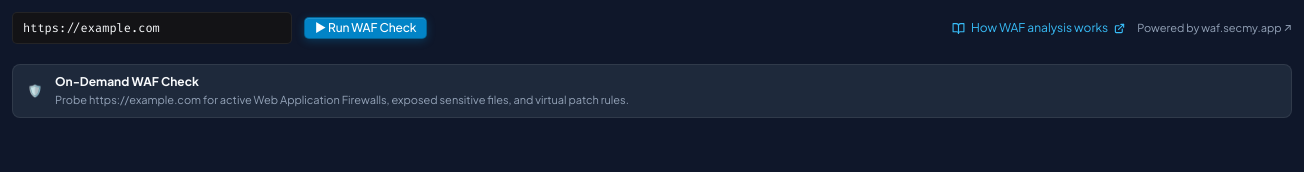
WafCheckPanel Component › renders error card when WAF check request fails
Click the button with test id "run-waf-check-btn" at (366, 28), box x1=304 y1=17 x2=427 y2=39
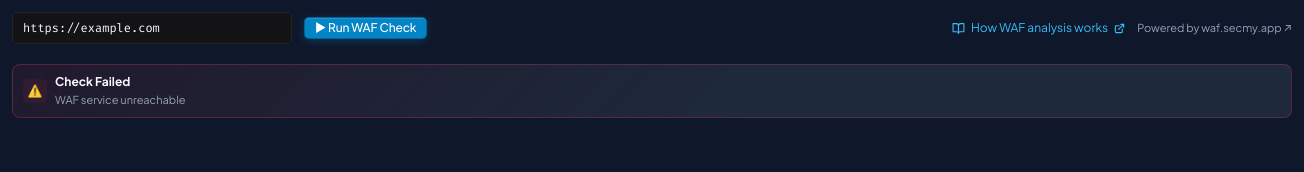
Result: the element with test id "waf-check-error" is shown at x1=12 y1=64 x2=1292 y2=118
Result: the text "Check Failed" is shown at x1=55 y1=74 x2=130 y2=89
Result: the text "WAF service unreachable" is shown at x1=55 y1=93 x2=185 y2=106
